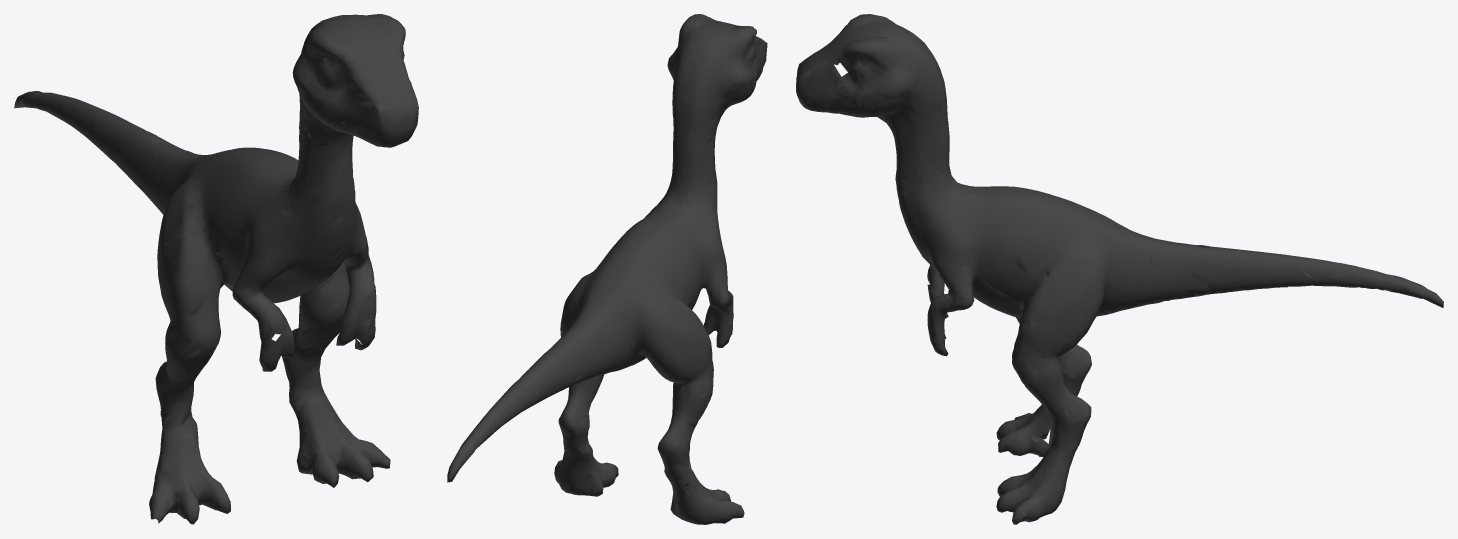
The model's file is coelophysis.glb.
3 views of the same model, side by side, from view 1: azimuth 30°, elevation 25°; view 2: azimuth 150°, elevation 25°; view 3: azimuth 270°, elevation 25° (orthographic). The views are drawn at different scales.
Parts seen in each view (by area): view 1: geometry_0; view 2: geometry_0; view 3: geometry_0.
Part boxes in pixels (x1,y1,x2,y2): geometry_0: (14, 14, 418, 524); geometry_0: (447, 14, 767, 524); geometry_0: (796, 14, 1443, 524).
Bounding box in the file's own units: 0.3575 × 0.7686 × 1.
Materials: 1 (1 with a texture image).
